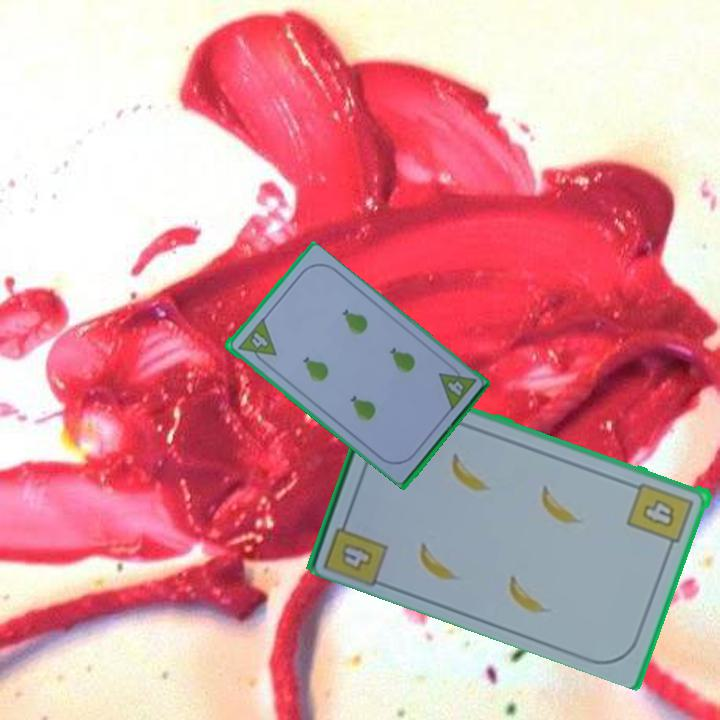4b: (321, 508, 392, 587), (624, 479, 697, 553)
4p: (434, 359, 479, 413), (234, 315, 279, 368)
